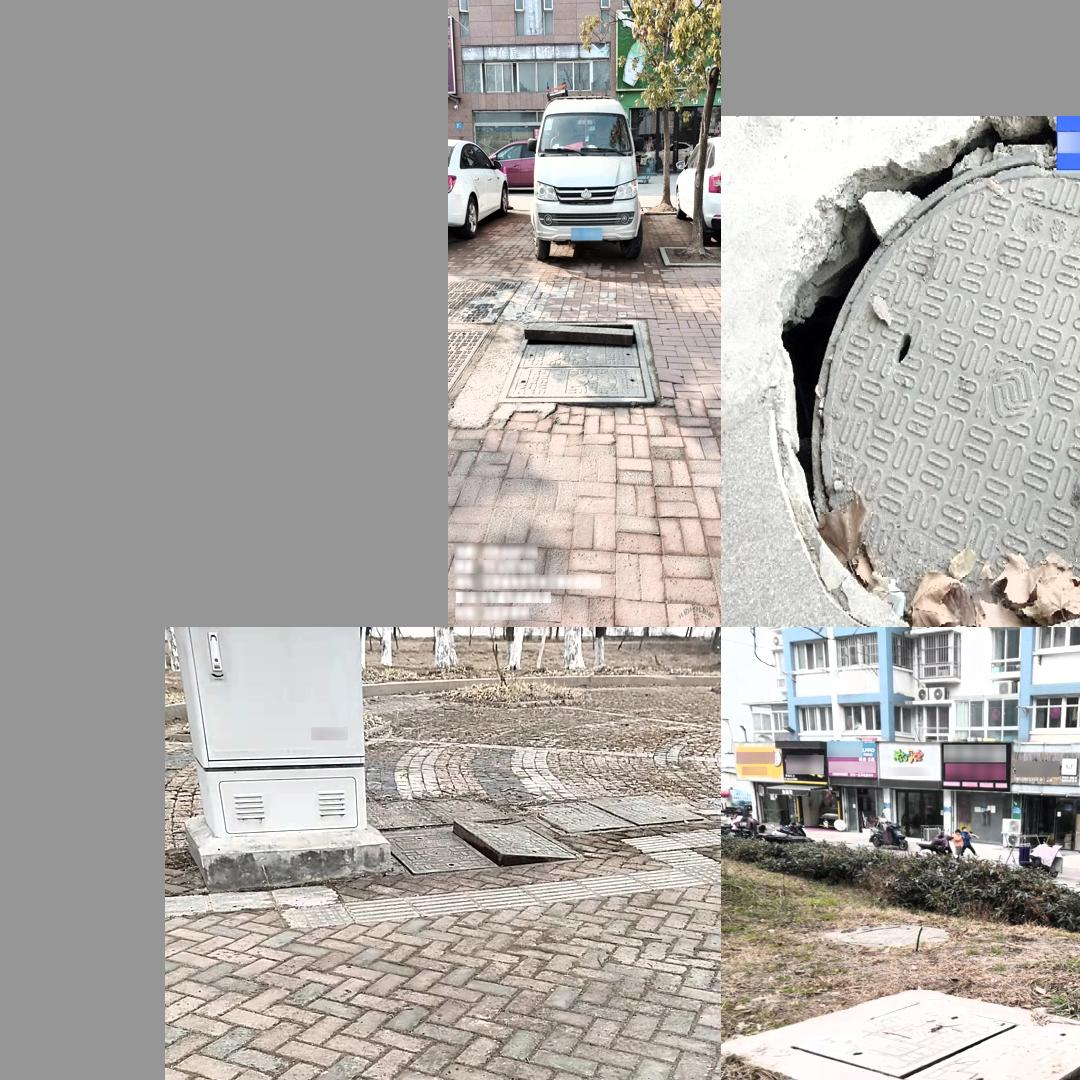good: (522, 794, 721, 842)
uncovered: (811, 144, 1080, 623), (788, 995, 1080, 1080), (497, 319, 660, 404), (377, 818, 582, 875)
